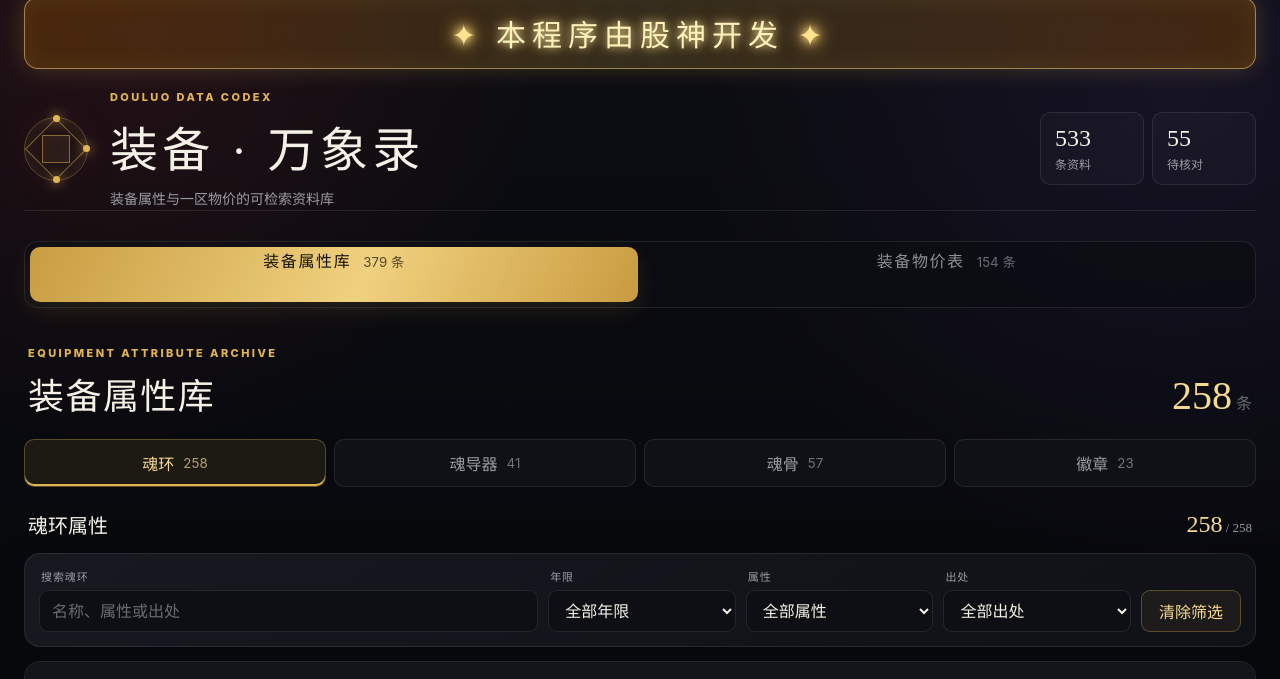
Test: dashboard modules › shows a clear action when search has no result
The image size is (1280, 679).
In the field labelled "搜索魂环": [289, 611] box [39,590,538,632], type "不存在的魂环"
(page scrolled)
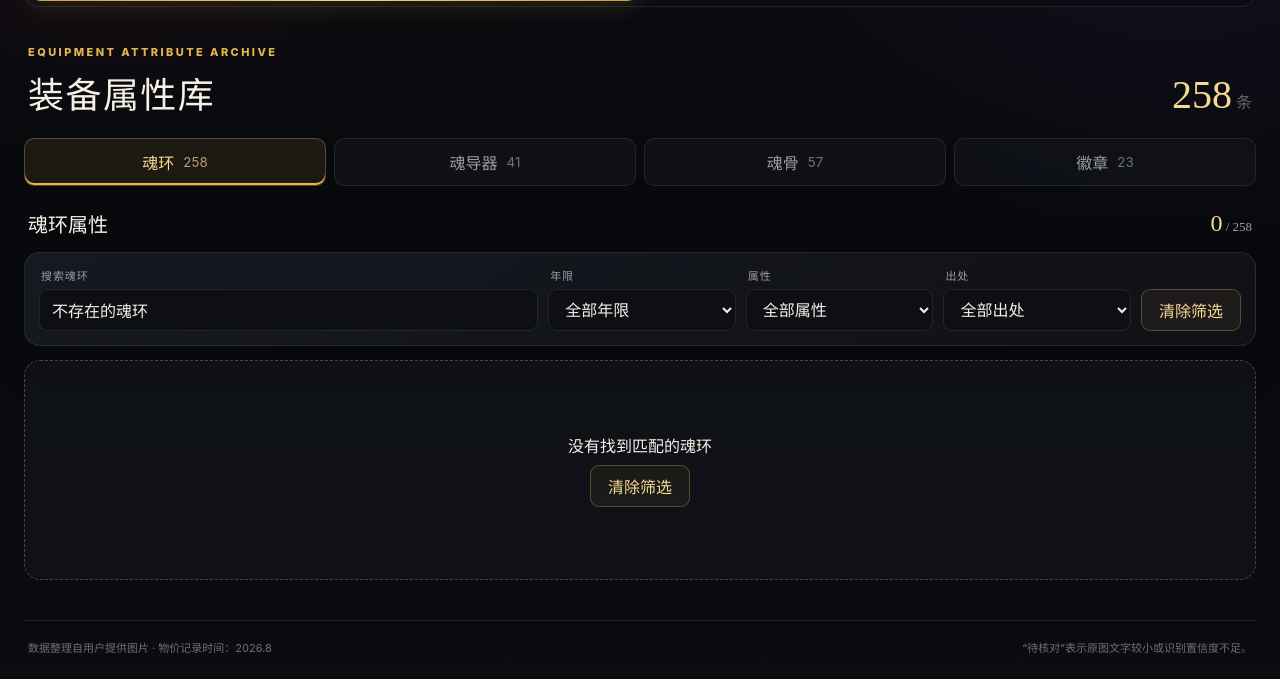
Check: the text "没有找到匹配的魂环" is shown, box [568,433,712,457]
Click the button "清除筛选" below "没有找到匹配的魂环": [640, 486] box [590,465,690,507]
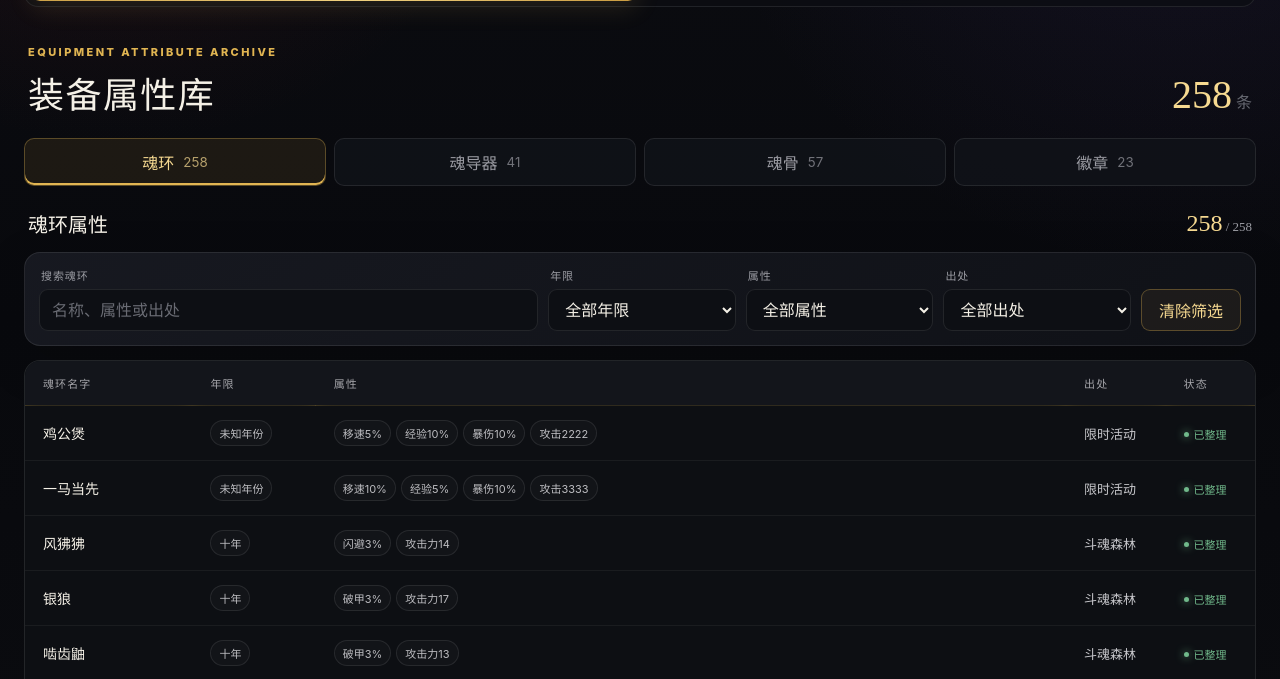
Check: the text "没有找到匹配的魂环" is gone
